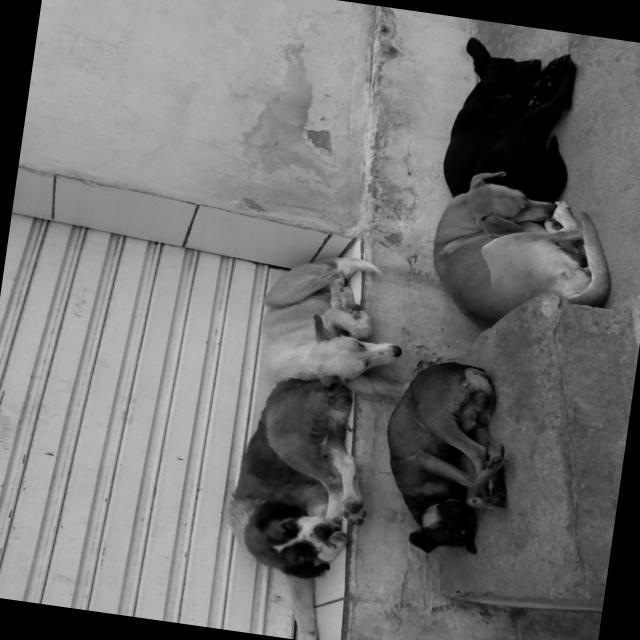laying down: (419, 160, 626, 350), (217, 367, 386, 588), (367, 348, 530, 564), (245, 241, 418, 405), (436, 30, 593, 196)
